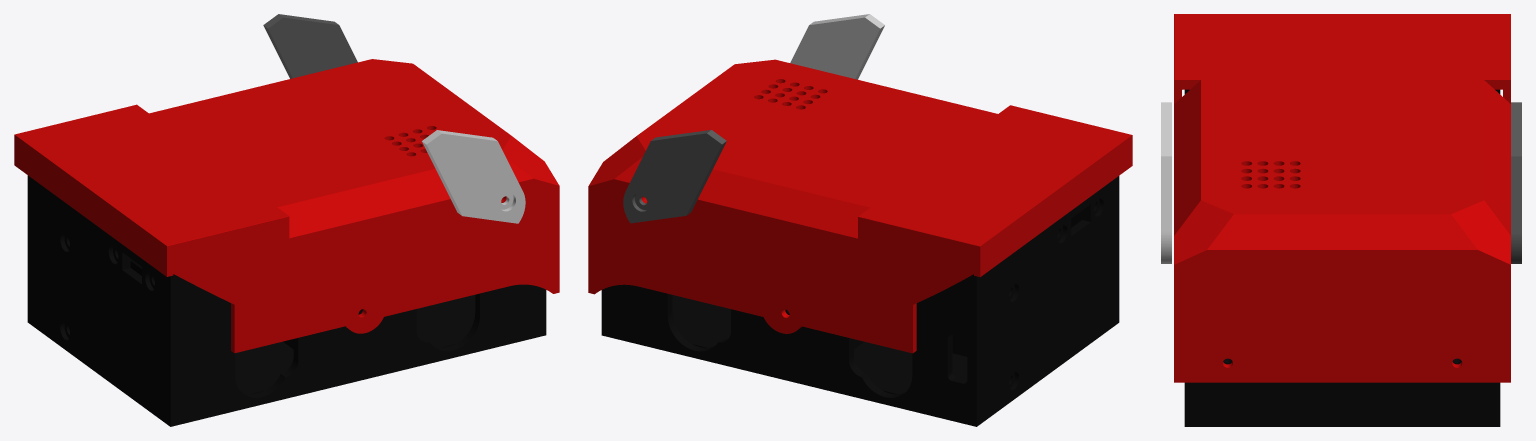
File: QQHyo7KlaQk_body.obj
3 views of the same model, side by side, from view 1: azimuth 30°, elevation 25°; view 2: azimuth 150°, elevation 25°; view 3: azimuth 270°, elevation 25° (orthographic). The views are drawn at different scales.
Visible parts, largest first — view 1: QQHyo7KlaQk_body_top, QQHyo7KlaQk_body_lower, QQHyo7KlaQk_ear_right, QQHyo7KlaQk_ear_left; view 2: QQHyo7KlaQk_body_top, QQHyo7KlaQk_body_lower, QQHyo7KlaQk_ear_left, QQHyo7KlaQk_ear_right; view 3: QQHyo7KlaQk_body_top, QQHyo7KlaQk_body_lower, QQHyo7KlaQk_ear_left, QQHyo7KlaQk_ear_right.
Part boxes in pixels (x1,y1,x2,y2): QQHyo7KlaQk_body_top: (14, 59, 559, 353); QQHyo7KlaQk_body_lower: (27, 175, 546, 426); QQHyo7KlaQk_ear_right: (422, 130, 525, 223); QQHyo7KlaQk_ear_left: (263, 14, 357, 78); QQHyo7KlaQk_body_top: (588, 59, 1132, 353); QQHyo7KlaQk_body_lower: (601, 176, 1119, 426); QQHyo7KlaQk_ear_left: (623, 130, 726, 223); QQHyo7KlaQk_ear_right: (790, 14, 884, 79); QQHyo7KlaQk_body_top: (1174, 14, 1510, 382); QQHyo7KlaQk_body_lower: (1184, 89, 1500, 426); QQHyo7KlaQk_ear_left: (1511, 102, 1521, 263); QQHyo7KlaQk_ear_right: (1161, 102, 1171, 263).
Bounding box in the file's own units: 0.093 × 0.0538 × 0.067.
